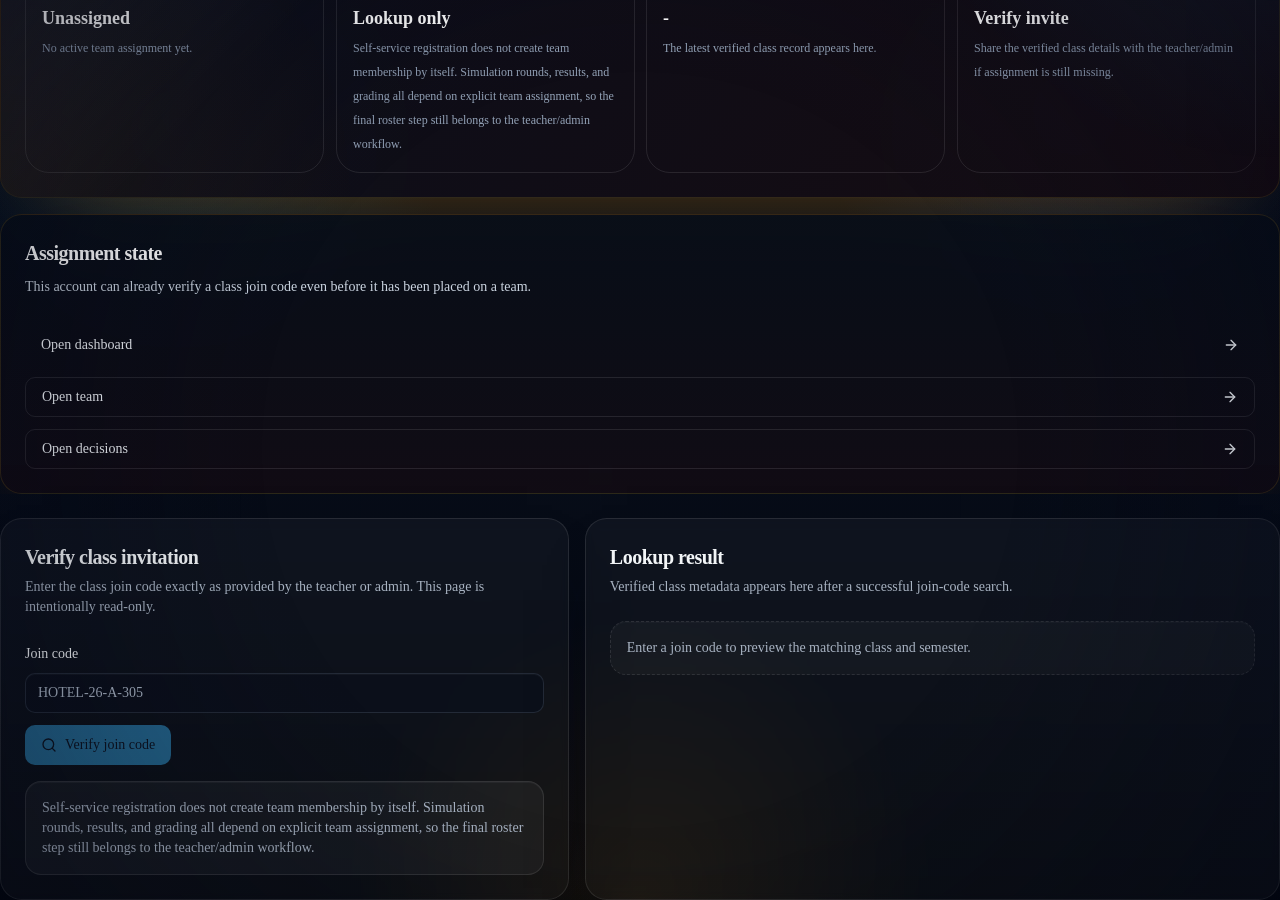
Scenario: StudentJoinClassPanel › shows live API lookup failures for invalid or missing class codes
(page scrolled)
Type "BAD-CODE" into the field labelled "Join code".
click(284, 693); type("BAD-CODE")  # box x1=25 y1=673 x2=544 y2=713
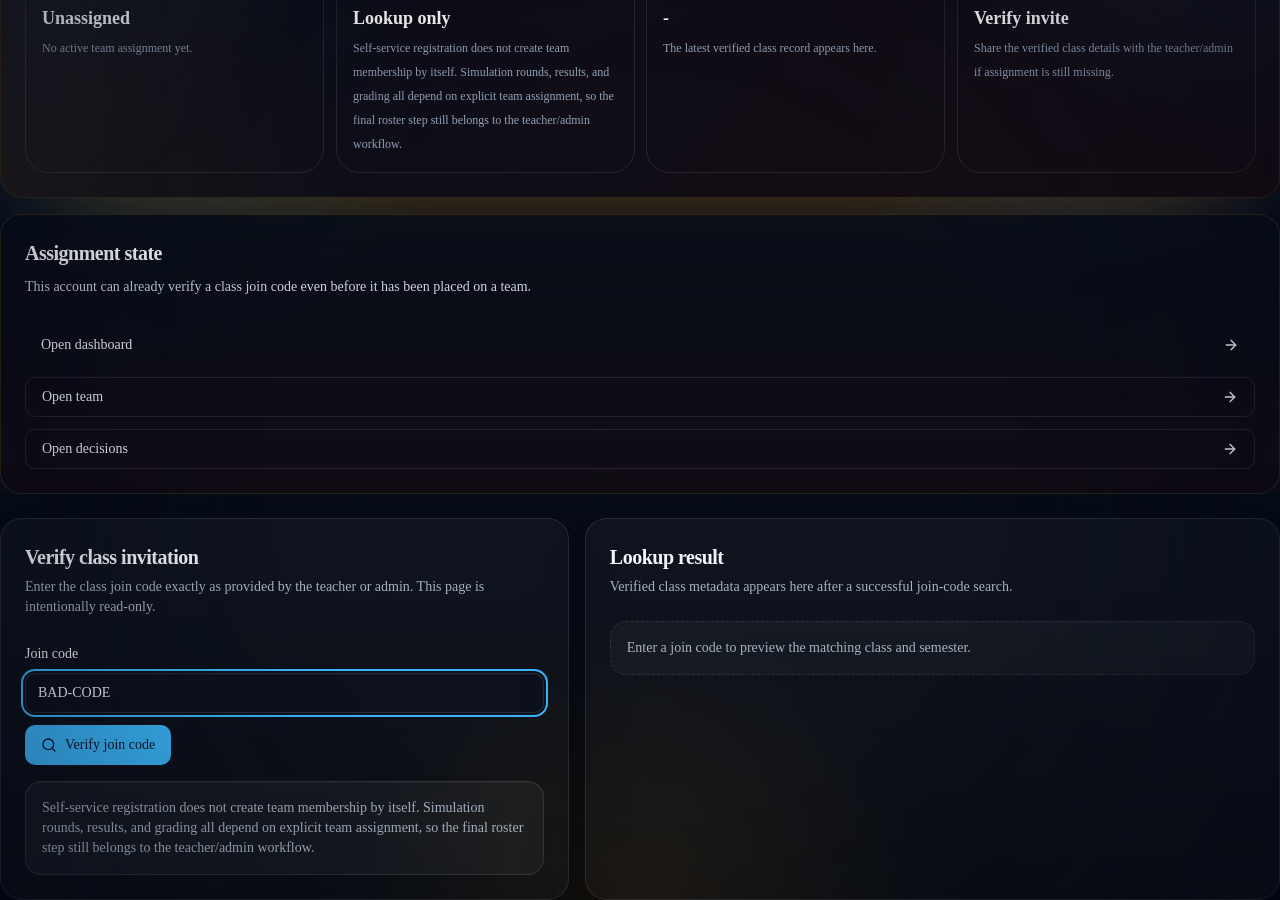
Click the button "Verify join code".
click(98, 745)  # box x1=25 y1=725 x2=171 y2=765
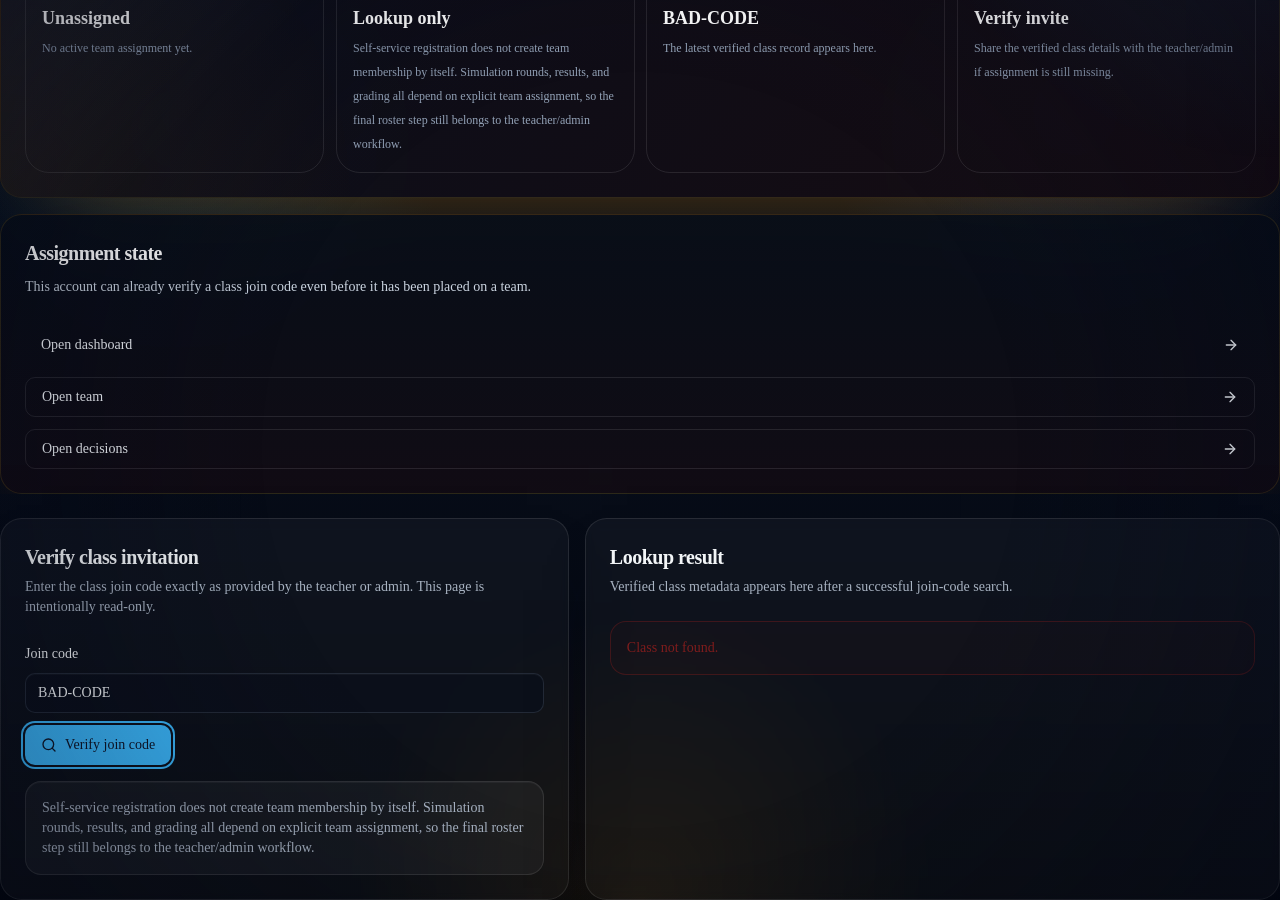
expect the text "Class not found." is shown: met, box x1=610 y1=621 x2=1255 y2=675
